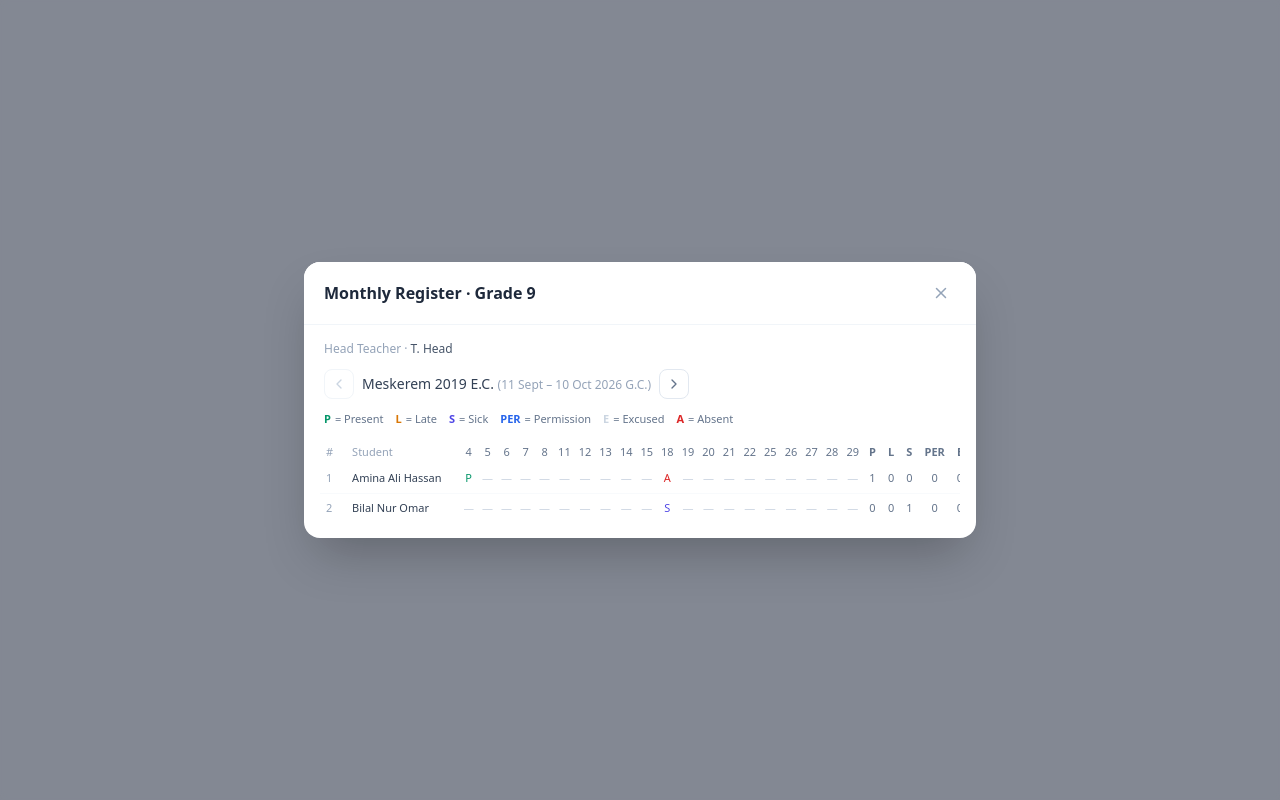
Scenario: Monthly Register (E.C.) › Next month is Tikimt 2019 (11 Oct – 9 Nov): the 12 Oct record is E.C. day 2 there
This screenshot has width=1280, height=800.
Click the button named "Next month" at (674,384), box left=659, top=369, right=689, bottom=399
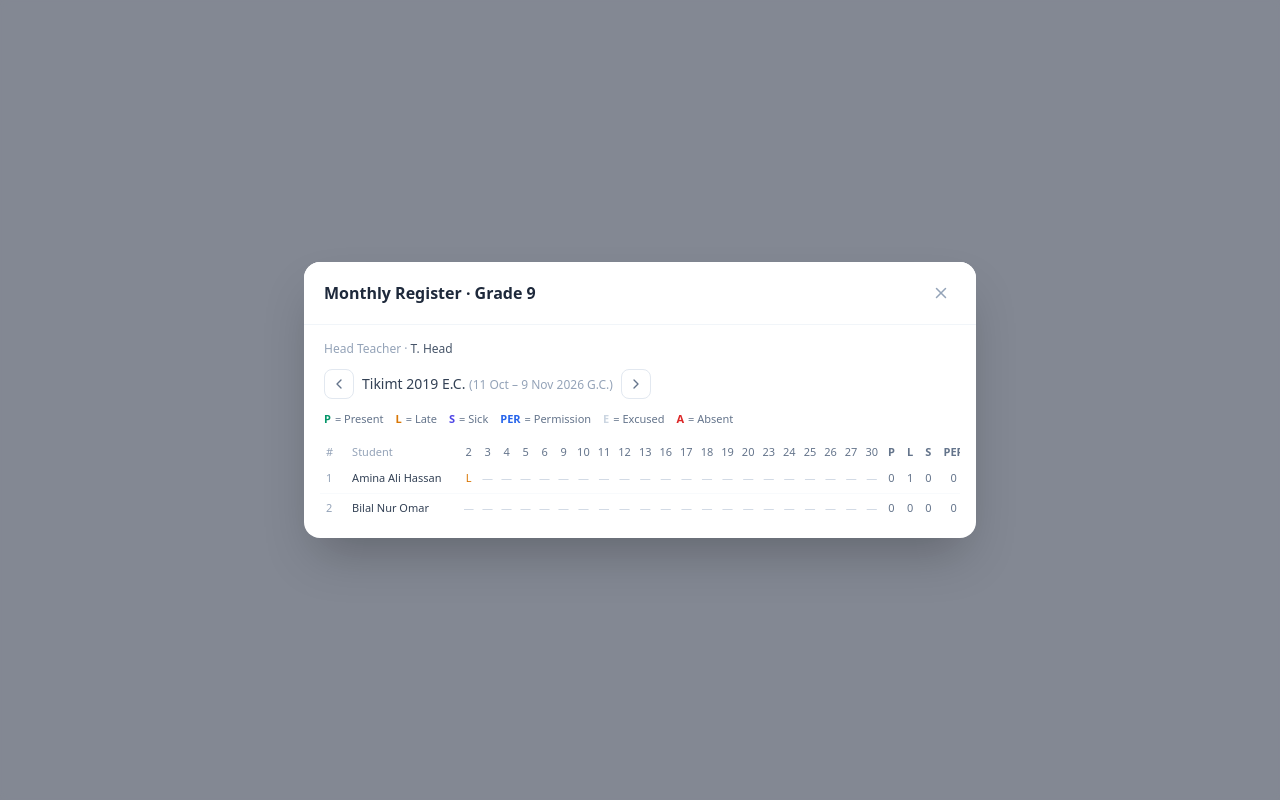
Expected: the text "(11 Oct – 9 Nov 2026 G.C.)" is shown, left=469, top=376, right=613, bottom=393
Now the text "Tikimt 2019 E.C. (11 Oct – 9 Nov 2026 G.C.)" is shown, box left=362, top=374, right=613, bottom=394
